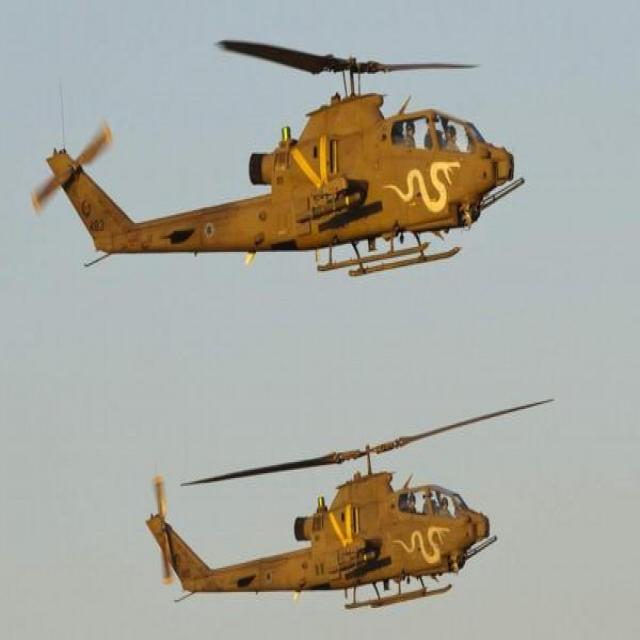MIL_HELO: (28, 17, 540, 307), (120, 391, 558, 622)
